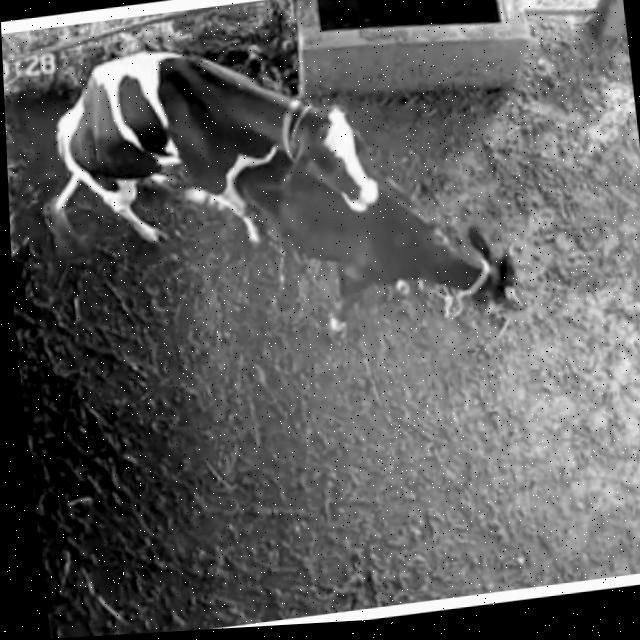ride: (28, 12, 395, 298)
